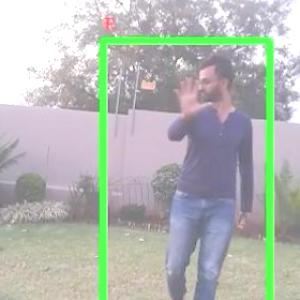follow_hand: (170, 72, 211, 118)
